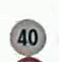limite 40: (9, 18, 46, 55)
